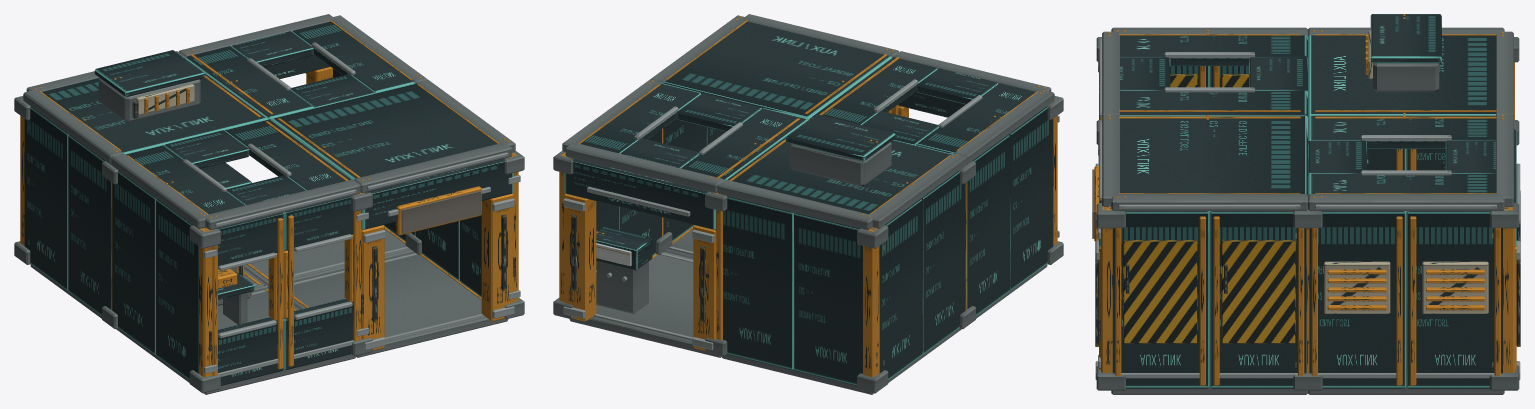
File: PurificationStation_LOD0.obj
The picture shows the model from 3 angles, left to right: view 1: azimuth 30°, elevation 25°; view 2: azimuth 150°, elevation 25°; view 3: azimuth 270°, elevation 25°; orthographic projection. The views are drawn at different scales.
Visible parts, largest first — view 1: 005_roof_4m.004, 007_roof_skylight_4m.004, 019_doorframe_4m.004, 001_roof_skylight_4m.004, 017_wall_window_2m.004, 004_floor_4m.004, 016_wall_window_2m.004, 003_roof_4m.004, 025_wall_vent_2m.004, 022_wall_solid_2m.004, 024_wall_vent_2m.004, 021_wall_solid_2m.004 (+23 smaller); view 2: 005_roof_4m.004, 030_doorframe_4m.004, 028_wall_solid_2m.008, 027_wall_solid_2m.004, 007_roof_skylight_4m.004, 001_roof_skylight_4m.004, 021_wall_solid_2m.004, 003_roof_4m.004, 024_wall_vent_2m.004, 022_wall_solid_2m.004, 025_wall_vent_2m.004, 006_floor_4m.004 (+21 smaller); view 3: 033_wall_solid_2m.004, 035_wall_vent_2m.004, 032_wall_solid_2m.004, 036_wall_vent_2m.004, 005_roof_4m.004, 001_roof_skylight_4m.004, 007_roof_skylight_4m.004, 003_roof_4m.004, 039_hvac_unit.004, 037_beam_4m.004, 034_beam_4m.004, 013_column_4m.008 (+17 smaller).
Part boxes in pixels (x1=…): 005_roof_4m.004: x1=270, y1=83, x2=499, y2=180; 007_roof_skylight_4m.004: x1=185, y1=20, x2=414, y2=119; 019_doorframe_4m.004: x1=361, y1=158, x2=514, y2=350; 001_roof_skylight_4m.004: x1=125, y1=119, x2=350, y2=214; 017_wall_window_2m.004: x1=283, y1=196, x2=359, y2=370; 004_floor_4m.004: x1=294, y1=251, x2=508, y2=357; 016_wall_window_2m.004: x1=212, y1=212, x2=283, y2=385; 003_roof_4m.004: x1=39, y1=57, x2=268, y2=153; 025_wall_vent_2m.004: x1=24, y1=106, x2=68, y2=290; 022_wall_solid_2m.004: x1=112, y1=170, x2=156, y2=355; 024_wall_vent_2m.004: x1=68, y1=134, x2=111, y2=315; 021_wall_solid_2m.004: x1=156, y1=199, x2=198, y2=379; 005_roof_4m.004: x1=663, y1=20, x2=892, y2=119; 030_doorframe_4m.004: x1=563, y1=157, x2=716, y2=350; 028_wall_solid_2m.008: x1=723, y1=196, x2=794, y2=370; 027_wall_solid_2m.004: x1=794, y1=212, x2=862, y2=385; 007_roof_skylight_4m.004: x1=578, y1=83, x2=807, y2=180; 001_roof_skylight_4m.004: x1=809, y1=57, x2=1038, y2=153; 021_wall_solid_2m.004: x1=1009, y1=106, x2=1053, y2=290; 003_roof_4m.004: x1=727, y1=119, x2=952, y2=214; 024_wall_vent_2m.004: x1=921, y1=170, x2=965, y2=355; 022_wall_solid_2m.004: x1=966, y1=134, x2=1009, y2=315; 025_wall_vent_2m.004: x1=879, y1=199, x2=921, y2=379; 006_floor_4m.004: x1=569, y1=251, x2=721, y2=357; 033_wall_solid_2m.004: x1=1209, y1=211, x2=1306, y2=388; 035_wall_vent_2m.004: x1=1309, y1=211, x2=1406, y2=388; 032_wall_solid_2m.004: x1=1112, y1=211, x2=1209, y2=388; 036_wall_vent_2m.004: x1=1406, y1=211, x2=1503, y2=388; 005_roof_4m.004: x1=1119, y1=115, x2=1307, y2=194; 001_roof_skylight_4m.004: x1=1119, y1=29, x2=1307, y2=116; 007_roof_skylight_4m.004: x1=1308, y1=112, x2=1496, y2=194; 003_roof_4m.004: x1=1308, y1=34, x2=1496, y2=116; 039_hvac_unit.004: x1=1365, y1=14, x2=1441, y2=92; 037_beam_4m.004: x1=1308, y1=194, x2=1504, y2=210; 034_beam_4m.004: x1=1111, y1=194, x2=1307, y2=210; 013_column_4m.008: x1=1096, y1=203, x2=1125, y2=390.
Bounding box in the file's own units: 8.62 × 5.33 × 8.72.
1 material, 1 textured.
